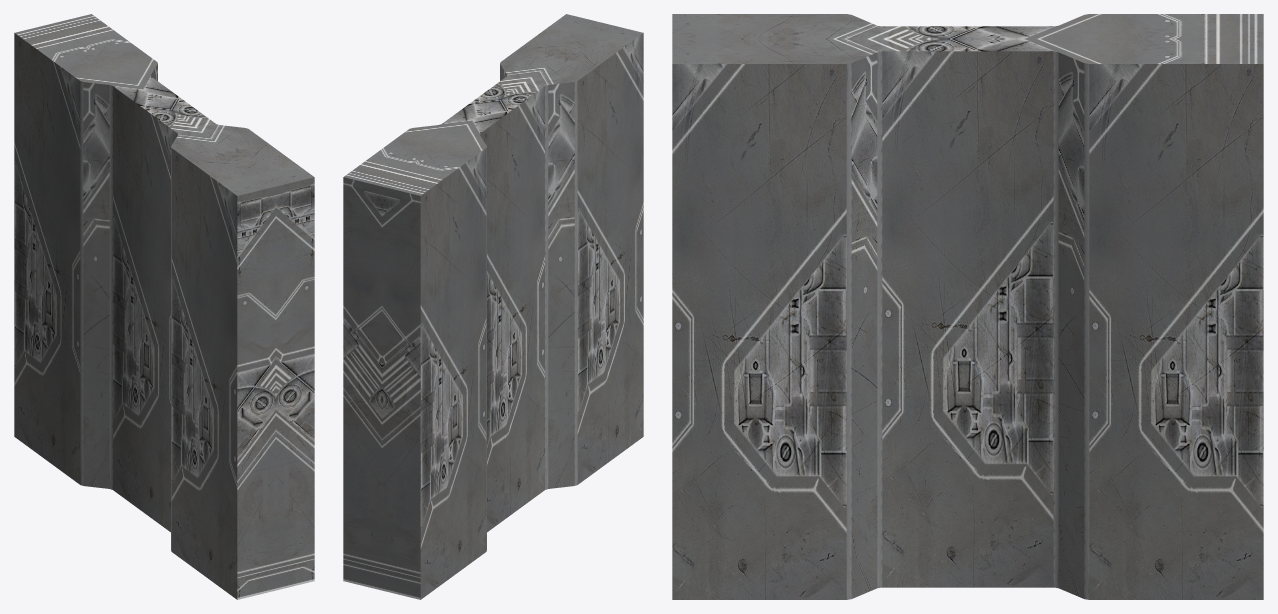
File: SM_WallS013b2.fbx
3 views of the same model, side by side, from view 1: azimuth 30°, elevation 25°; view 2: azimuth 150°, elevation 25°; view 3: azimuth 270°, elevation 25° (orthographic). The views are drawn at different scales.
Visible parts, largest first — view 1: SM_WallS013b2_LOD0; view 2: SM_WallS013b2_LOD0; view 3: SM_WallS013b2_LOD0.
Part boxes in pixels (x1,y1,x2,y2): SM_WallS013b2_LOD0: (14,14,314,599); SM_WallS013b2_LOD0: (343,14,643,599); SM_WallS013b2_LOD0: (672,14,1263,599).
Size of the model in its own units: 80 by 400 by 400.
Materials: 2 (2 with a texture image).
